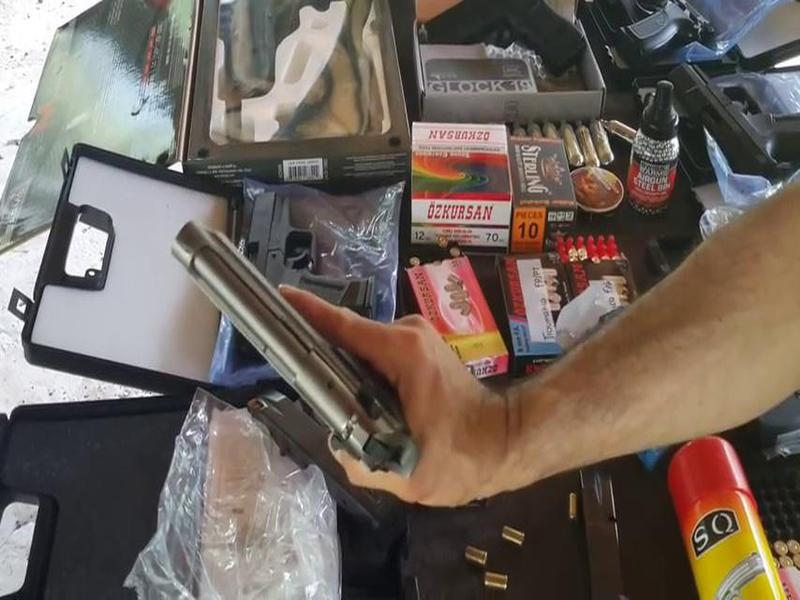Pistola: (162, 210, 426, 482)
